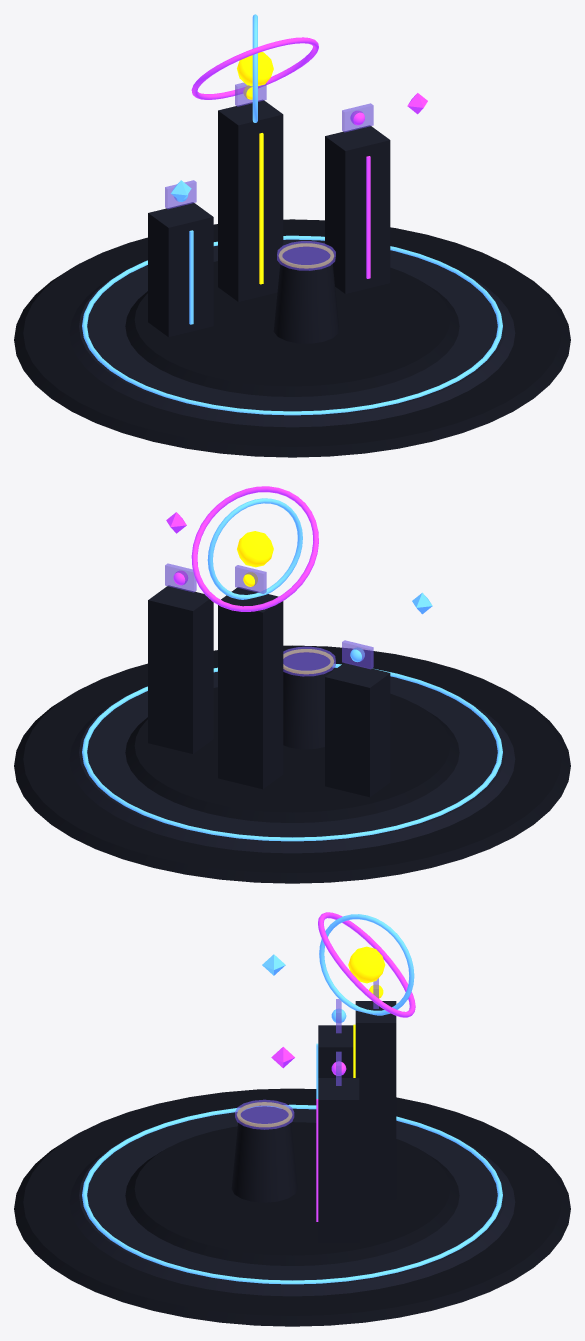
File: experience-environment.glb
3 views of the same model, one above another, from view 1: azimuth 30°, elevation 25°; view 2: azimuth 150°, elevation 25°; view 3: azimuth 270°, elevation 25° (orthographic).
Visible parts, largest first — view 1: ExperienceEnvironment, MilestoneMonoliths, InteractivePodium, GyroRing01, ProgressCore, GyroRing02; view 2: ExperienceEnvironment, MilestoneMonoliths, InteractivePodium, GyroRing01, GyroRing02, ProgressCore; view 3: ExperienceEnvironment, MilestoneMonoliths, InteractivePodium, GyroRing01, GyroRing02, ProgressCore.
Boxes of the visible parts, x1,y1,x2,y2 form: ExperienceEnvironment: [14, 219, 570, 457]; MilestoneMonoliths: [148, 82, 390, 337]; InteractivePodium: [273, 241, 338, 343]; GyroRing01: [191, 37, 318, 99]; ProgressCore: [237, 52, 273, 86]; GyroRing02: [252, 14, 257, 122]; ExperienceEnvironment: [14, 645, 570, 883]; MilestoneMonoliths: [148, 563, 390, 797]; InteractivePodium: [283, 646, 335, 749]; GyroRing01: [191, 486, 318, 611]; GyroRing02: [207, 498, 302, 599]; ProgressCore: [237, 531, 273, 567]; ExperienceEnvironment: [14, 1088, 570, 1326]; MilestoneMonoliths: [316, 978, 396, 1242]; InteractivePodium: [231, 1099, 297, 1202]; GyroRing01: [318, 912, 415, 1017]; GyroRing02: [319, 914, 414, 1015]; ProgressCore: [348, 946, 385, 983].
Size of the model in its own units: 3 by 1.74 by 3.
